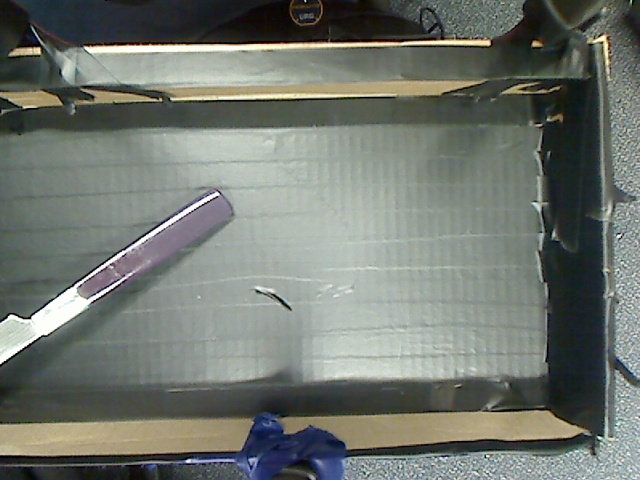knife: (1, 162, 252, 392)
